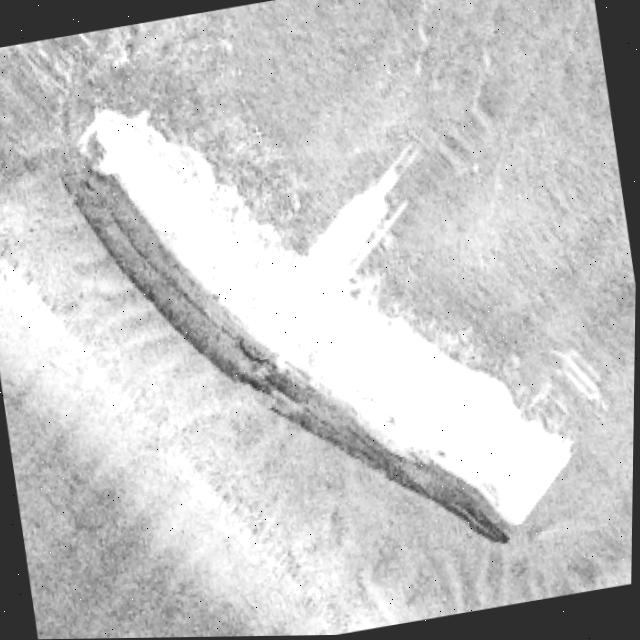shipwreck: (42, 50, 617, 600)
